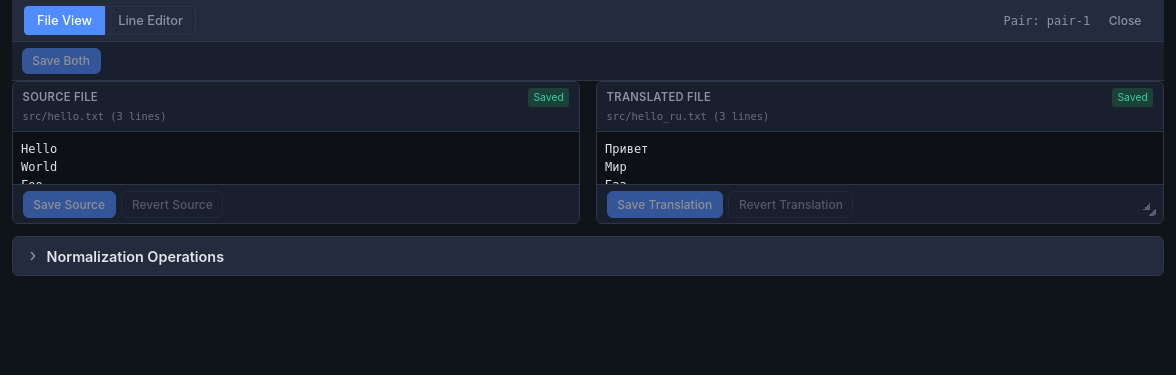
BottomEditorPanel draft preservation (integration) › Line Editor edited row survives tab switch › shows increased Edited stat after re-visiting Line Editor
The width and height of the screenshot is (1176, 375).
// Switch to Line Editor
Click the button "Line Editor" at [151, 20], box [105,6,196,35]
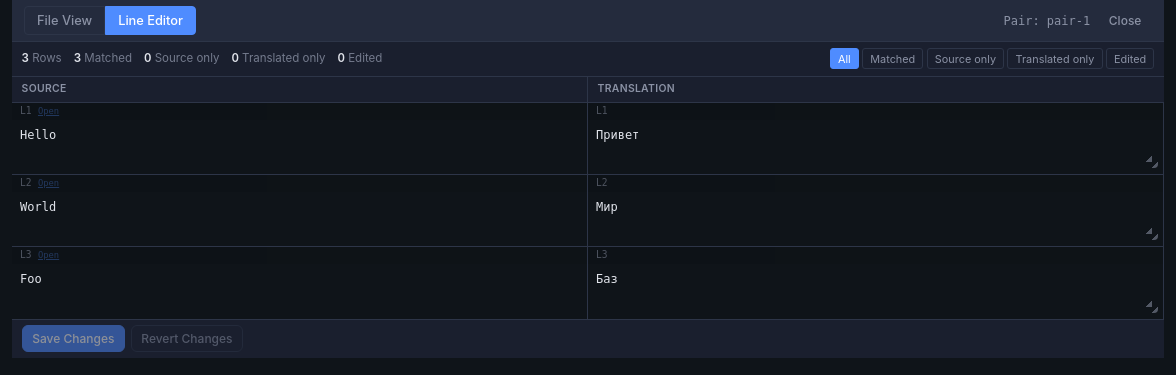
// Edit two rows
Replace the text in the text box in the row of "Hello" with "modified 1" at [876, 147], box [588,120,1163,174]
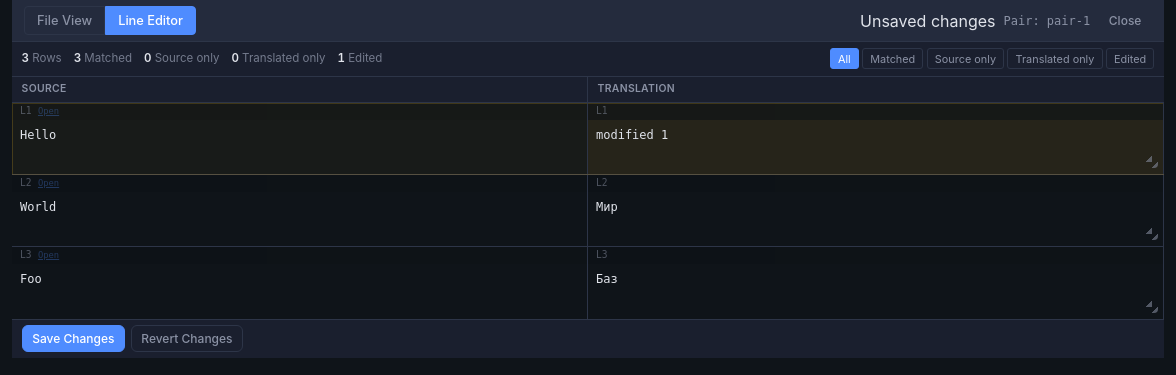
Replace the text in the text box in the row of "World" with "modified 2" at [876, 219], box [588,192,1163,246]
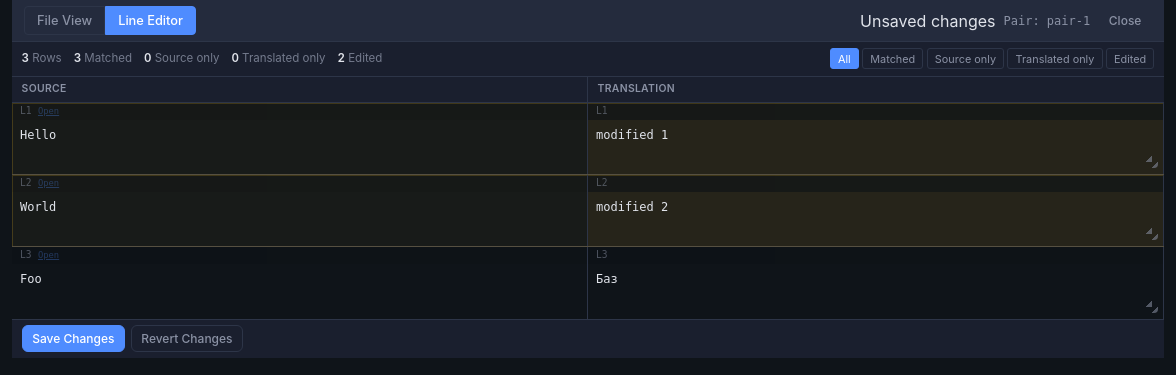
// Switch away and back
Click the button "File View" at [65, 20], box [24,6,105,35]
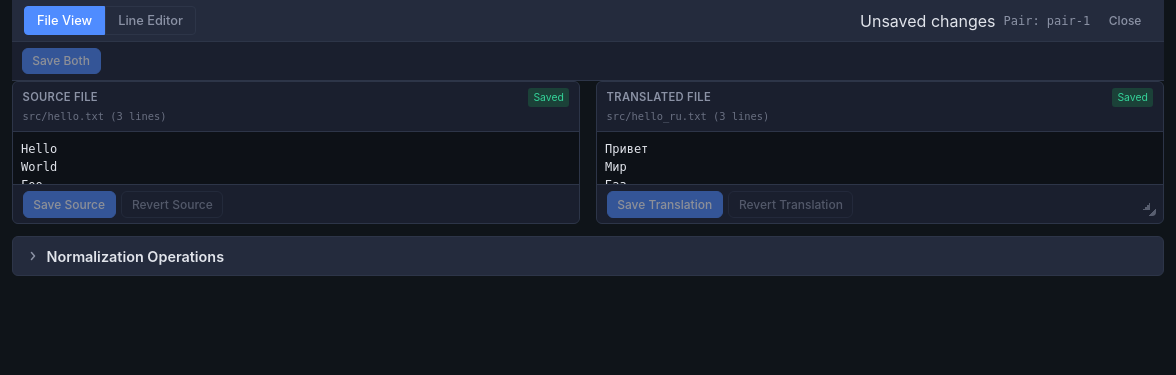
Click the button "Line Editor" at [151, 20], box [105,6,196,35]
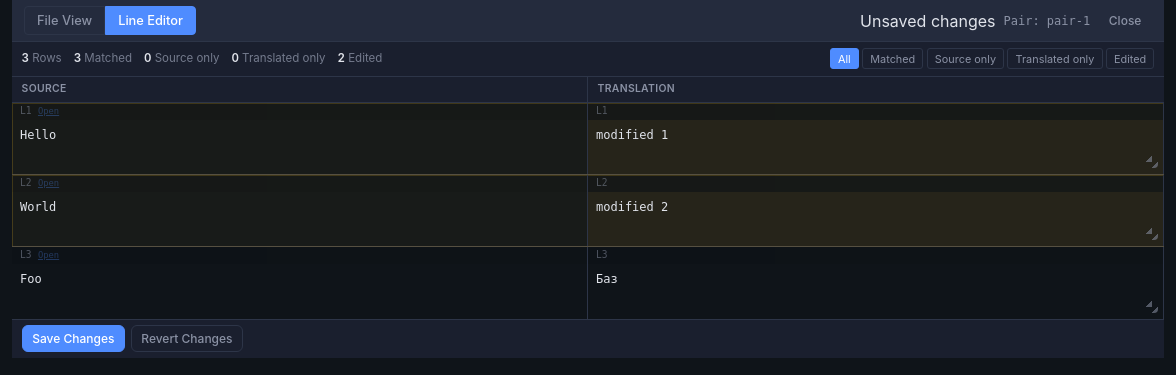
Result: the text "2" is shown at [338,50,345,67]
